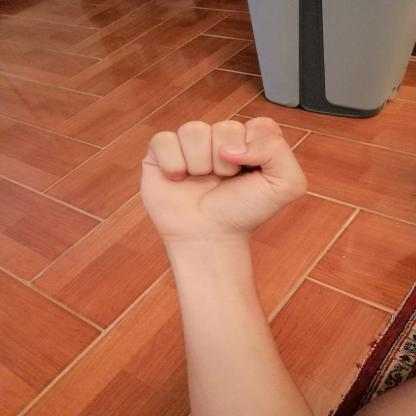SAD: (121, 100, 324, 249)
